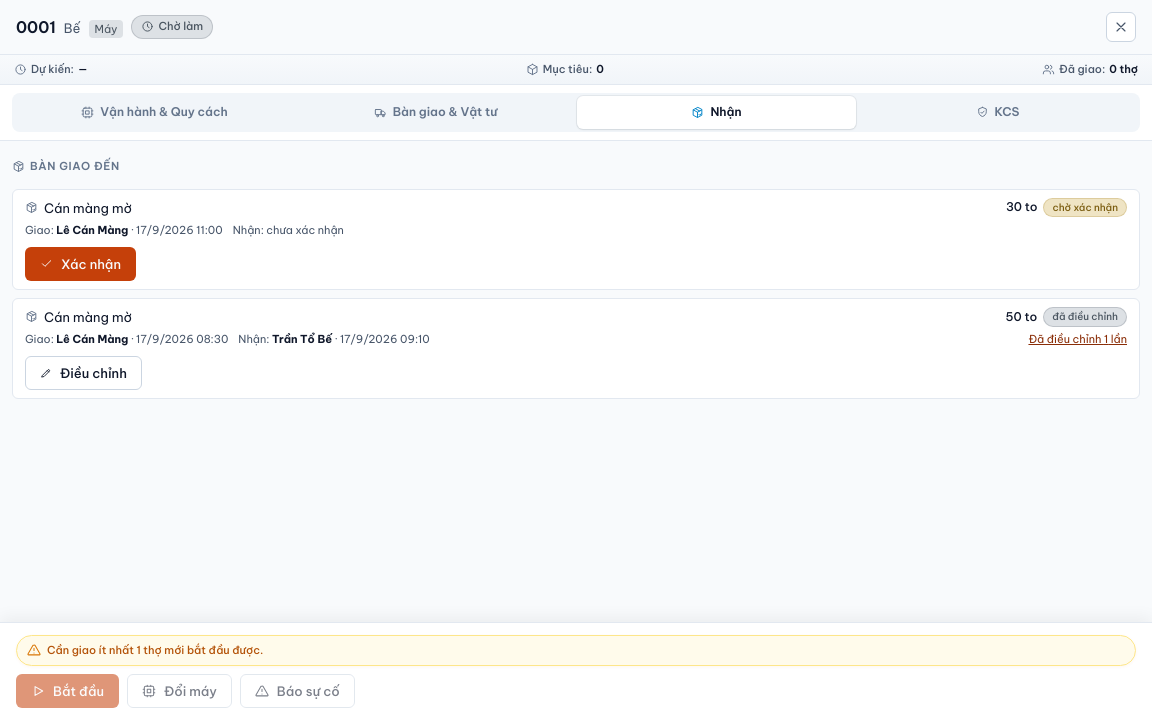
ThsxDrawer · tab Nhận (§11.5) › mỗi dòng ghi ai giao, ai nhận, lúc nào; lịch sử điều chỉnh mở ra đủ ai · trước → sau · mô tả
The width and height of the screenshot is (1152, 720).
Expected: the list item with class "thsx-x-bg" shows "Giao: Lê Cán Màng", [12,189,1140,290]
Expected: the list item with class "thsx-x-bg" shows "Nhận: chưa xác nhận", [12,189,1140,290]
What coordinates should you click on to do the following:
click the button "Đã điều chỉnh 1 lần"
I would click on:
 (1078, 340)
Its box is [1028,331,1127,348].
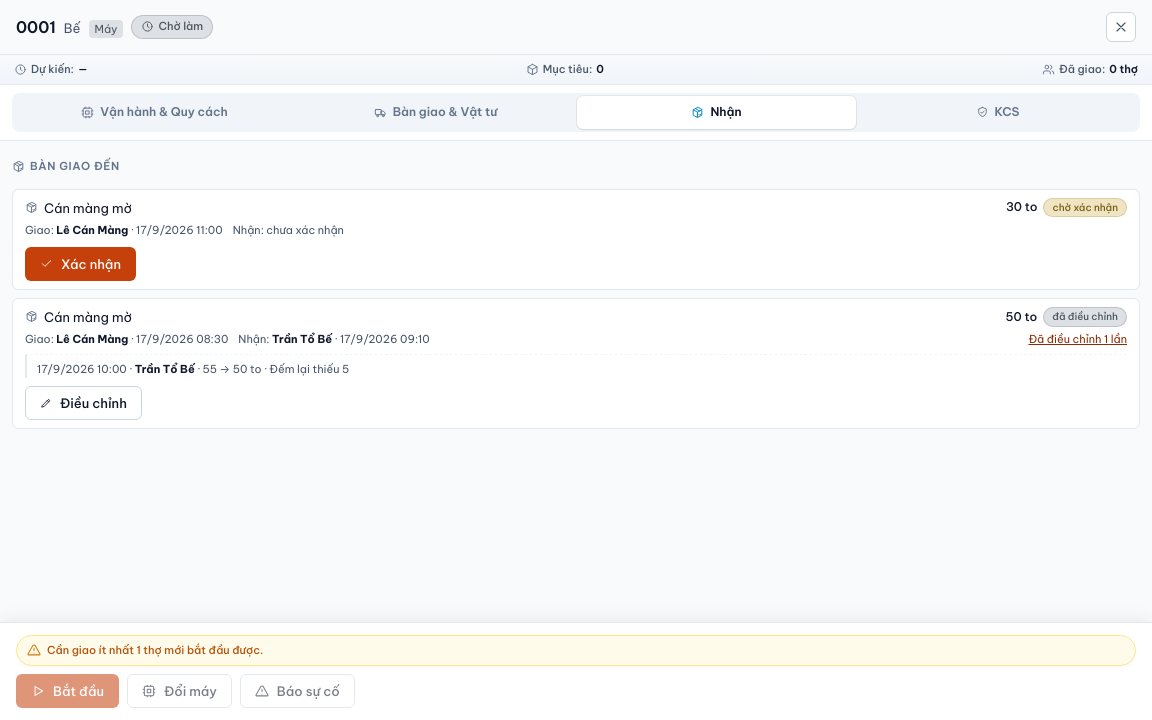
Result: the list named "Lịch sử điều chỉnh" reads "17/9/2026 10:00 · Trần Tổ Bế · 55 → 50 to · Đếm lại thiếu 5" at [25,354,1127,378]
